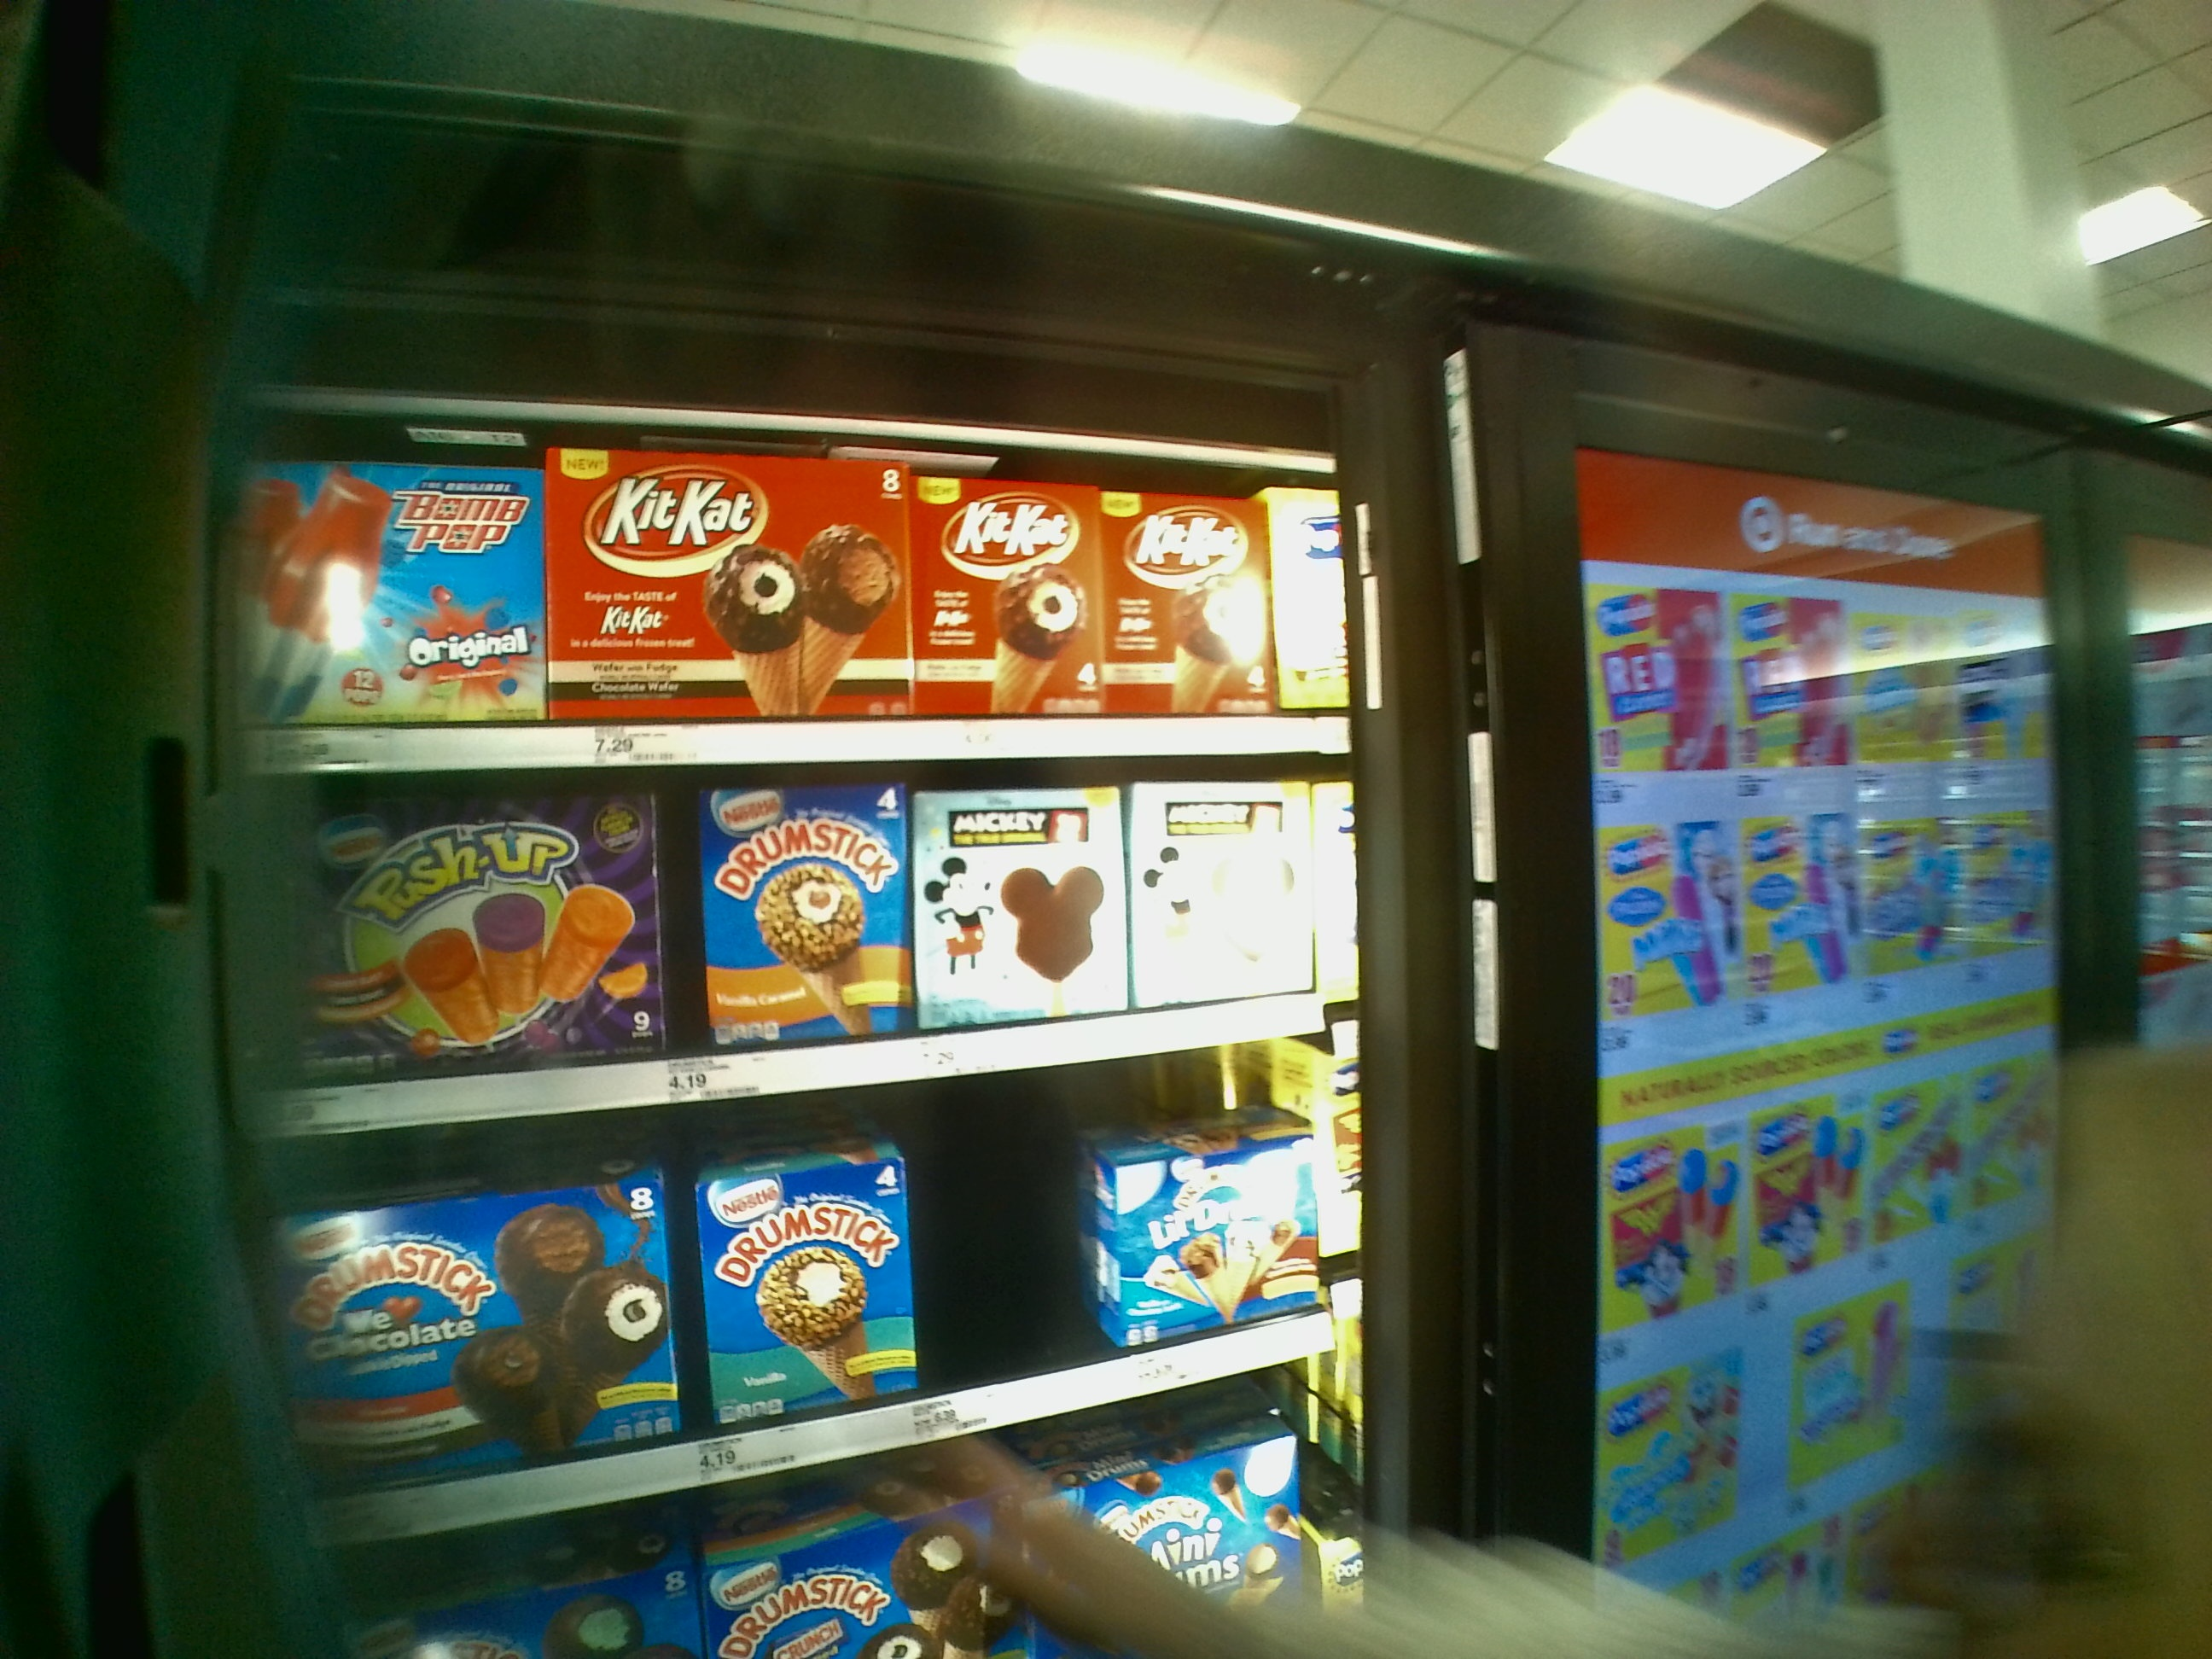shelf: (228, 416, 1352, 774), (273, 1091, 1367, 1448), (249, 767, 1359, 1079)
